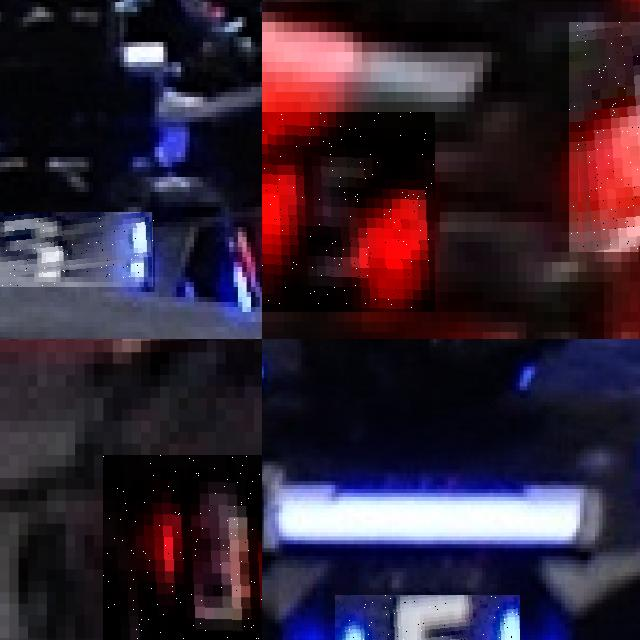B3: (0, 212, 154, 287)
B5: (335, 595, 519, 640)
R3: (103, 455, 262, 640)
R5: (262, 112, 435, 312), (569, 22, 640, 252)
